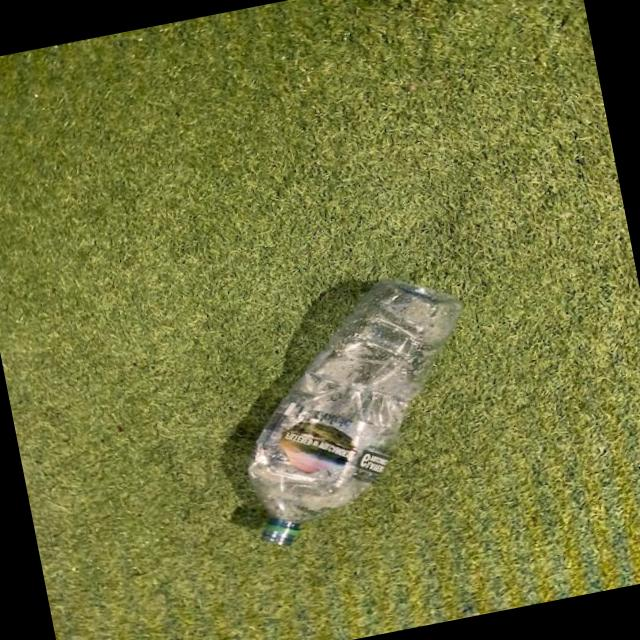plastic_bottle: (216, 266, 504, 551)
